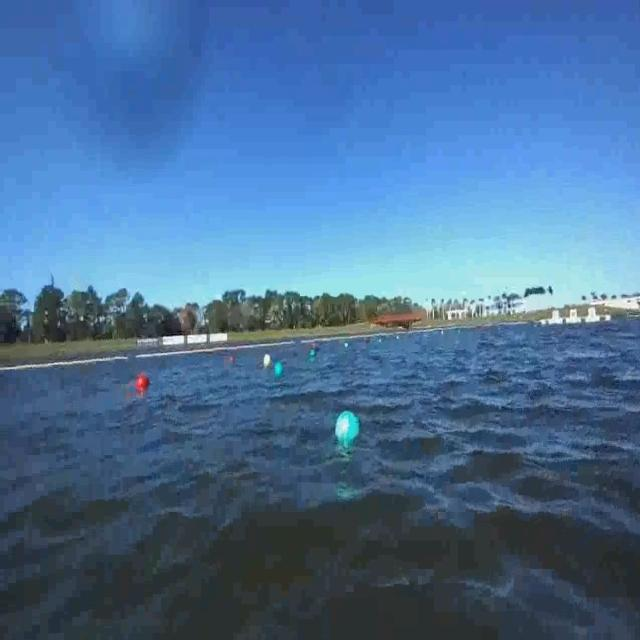green-buoy: (336, 410, 362, 444), (274, 360, 284, 376)
red-buoy: (137, 376, 151, 392)
yellow-buoy: (264, 353, 272, 368)
